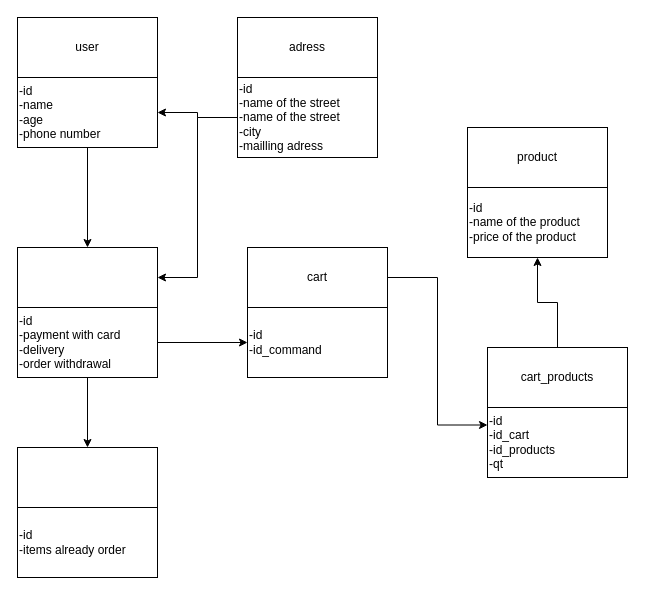
Some shapes in this 645 by 595 pixel diagram are drawn without their labels. Here are the shapes that lost their labels. From the top down, the box of each, then its label:
(16, 246, 158, 308): command
(16, 446, 158, 508): invoices
